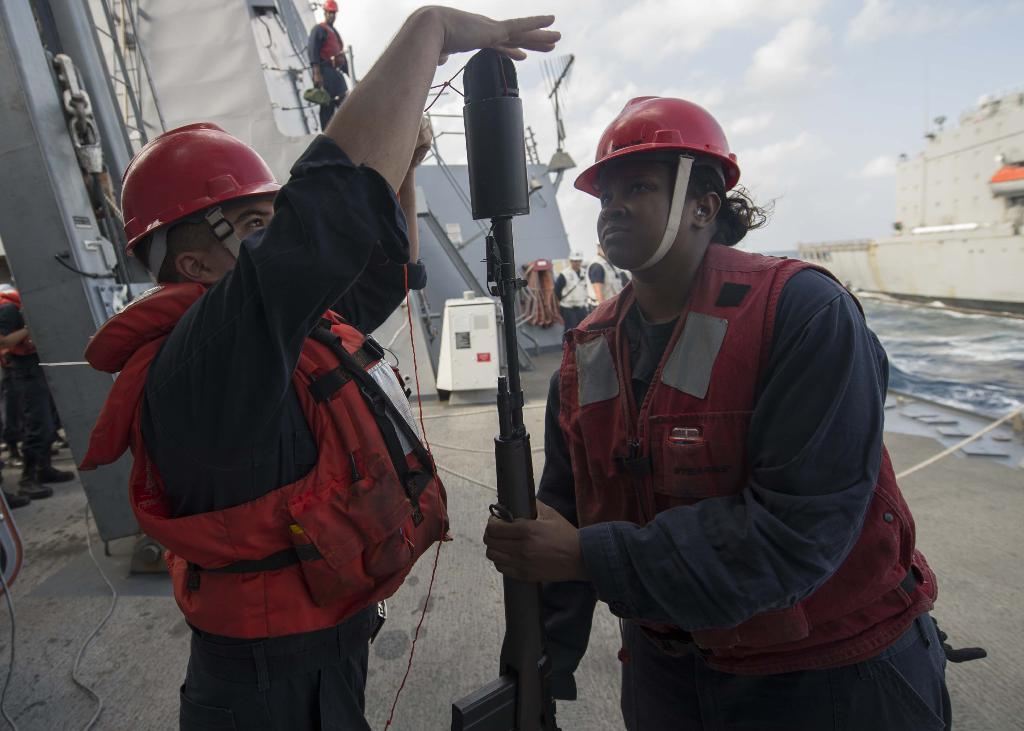helmet: (120, 121, 301, 301), (573, 96, 741, 266), (322, 0, 339, 22)
